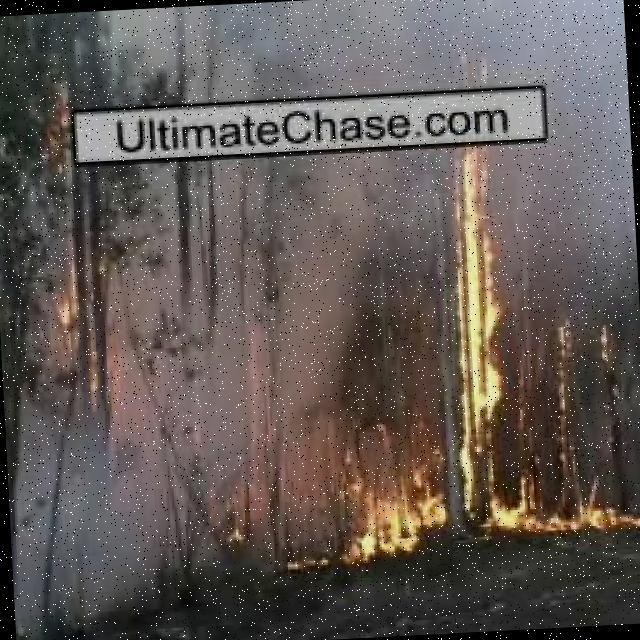Fire: (432, 62, 515, 543), (319, 466, 455, 558), (53, 271, 122, 404), (524, 475, 640, 541), (552, 316, 580, 449), (220, 484, 250, 556), (47, 102, 82, 163), (599, 324, 615, 378)
